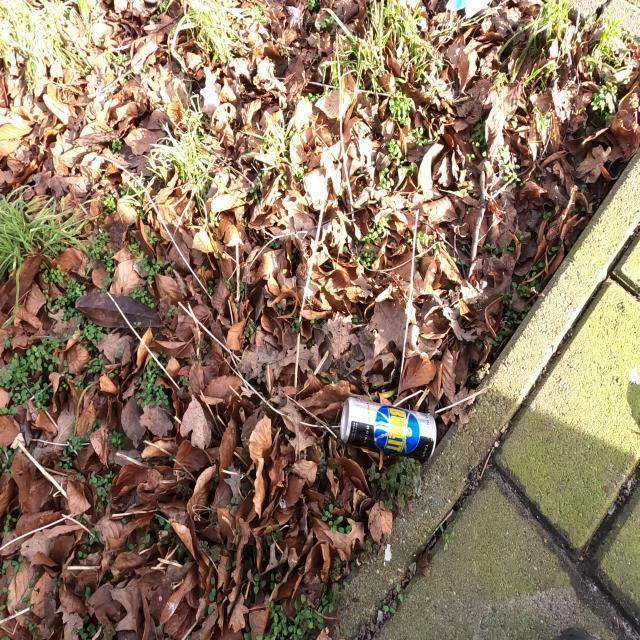Can-Metal: (340, 395, 438, 462)
